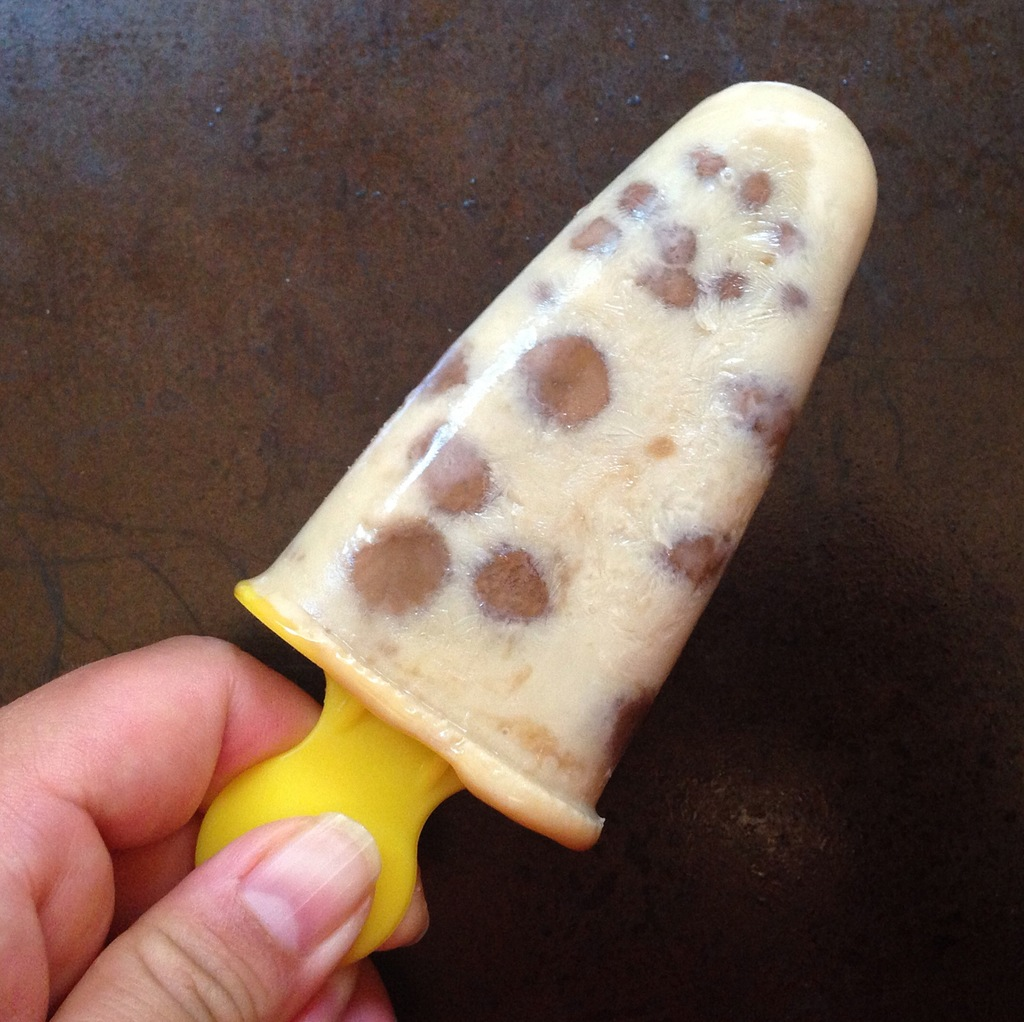Human_hand: (0, 604, 499, 1010)
